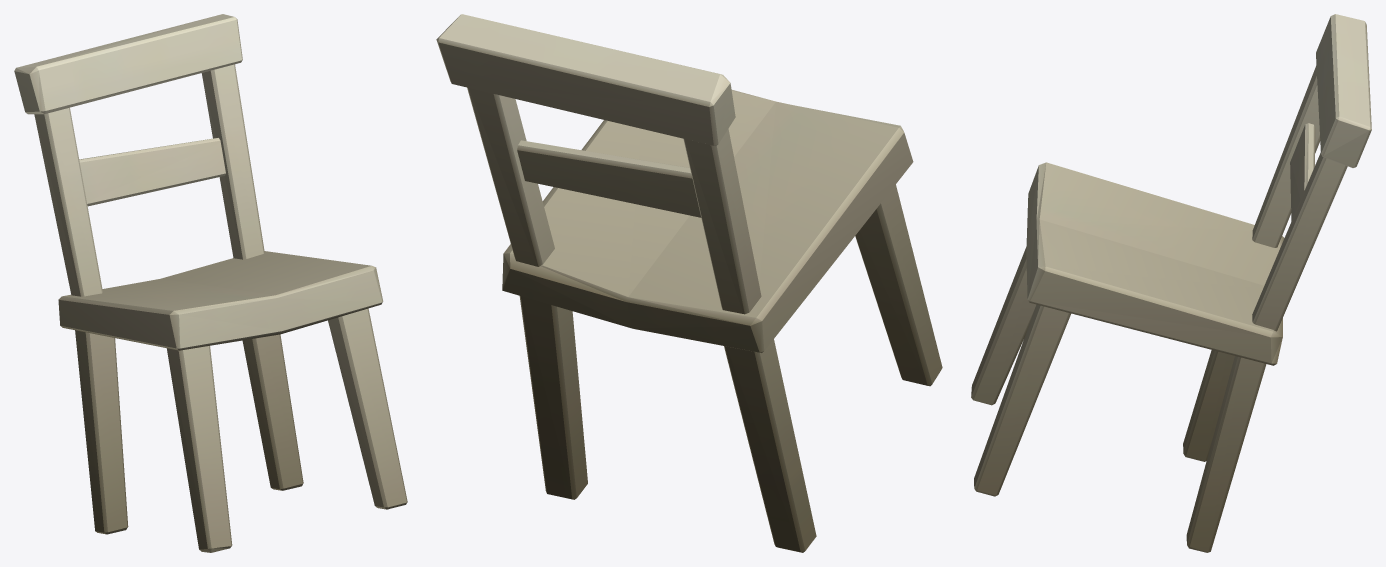
Rendered from CharSkyKid_Prop_Table.glb.
The picture shows the model from 3 angles, left to right: view 1: azimuth 30°, elevation 25°; view 2: azimuth 150°, elevation 25°; view 3: azimuth 270°, elevation 25°; orthographic projection. The views are drawn at different scales.
Parts seen in each view (by area): view 1: CharSkyKid_Prop_Table; view 2: CharSkyKid_Prop_Table; view 3: CharSkyKid_Prop_Table.
Part boxes in pixels (x1,y1,x2,y2): CharSkyKid_Prop_Table: (14, 14, 407, 552); CharSkyKid_Prop_Table: (436, 14, 942, 552); CharSkyKid_Prop_Table: (971, 14, 1371, 552).
Bounding box in the file's own units: 2.96 × 5.56 × 4.59.
Materials: 1 (1 with a texture image).
